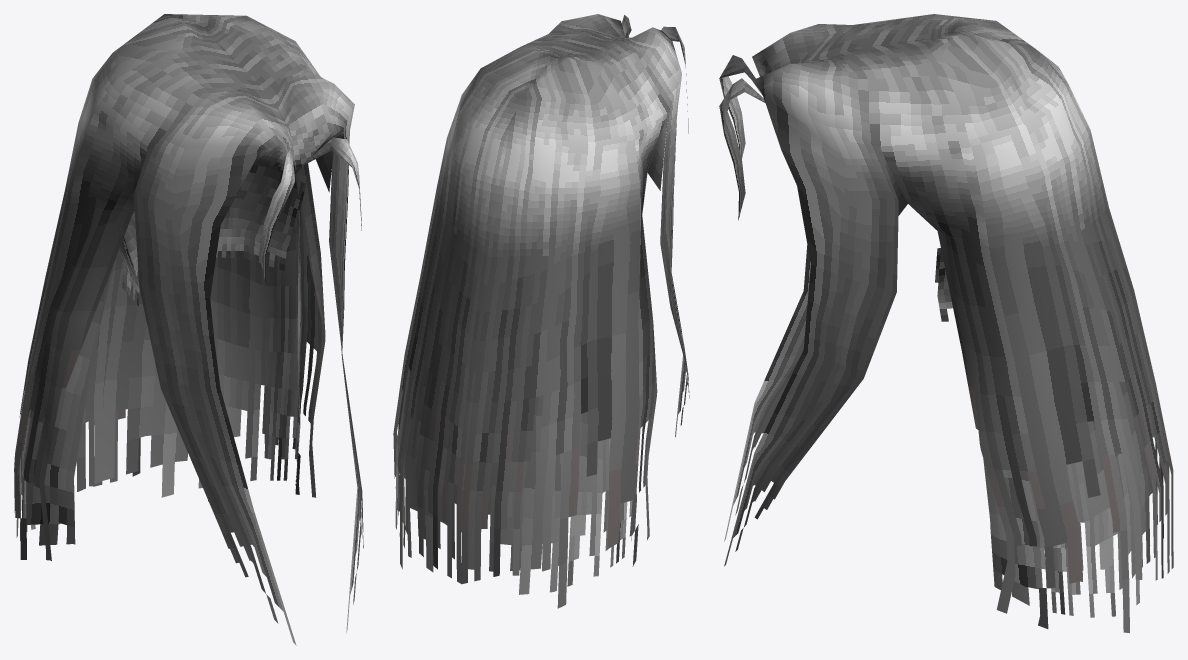
The model's file is m_head023.glb.
3 views of the same model, side by side, from view 1: azimuth 30°, elevation 25°; view 2: azimuth 150°, elevation 25°; view 3: azimuth 270°, elevation 25° (orthographic). The views are drawn at different scales.
Size of the model in its own units: 23.07 by 47.83 by 32.14.
1 material, 1 textured.
